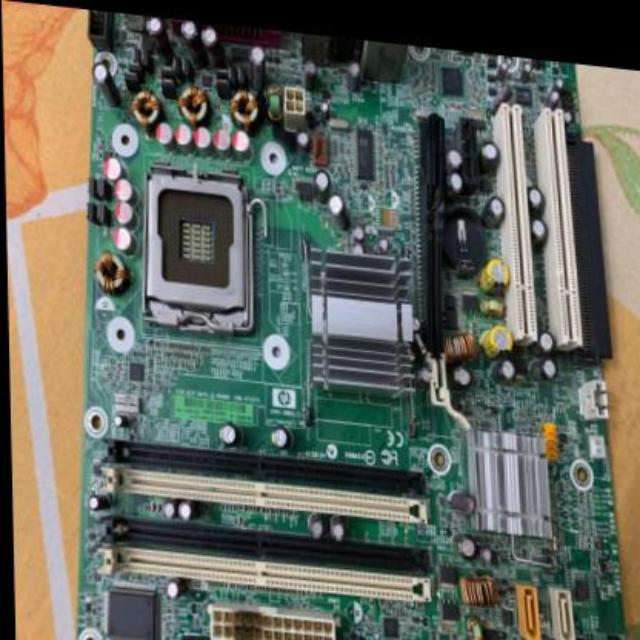PCB: (83, 0, 625, 640)
